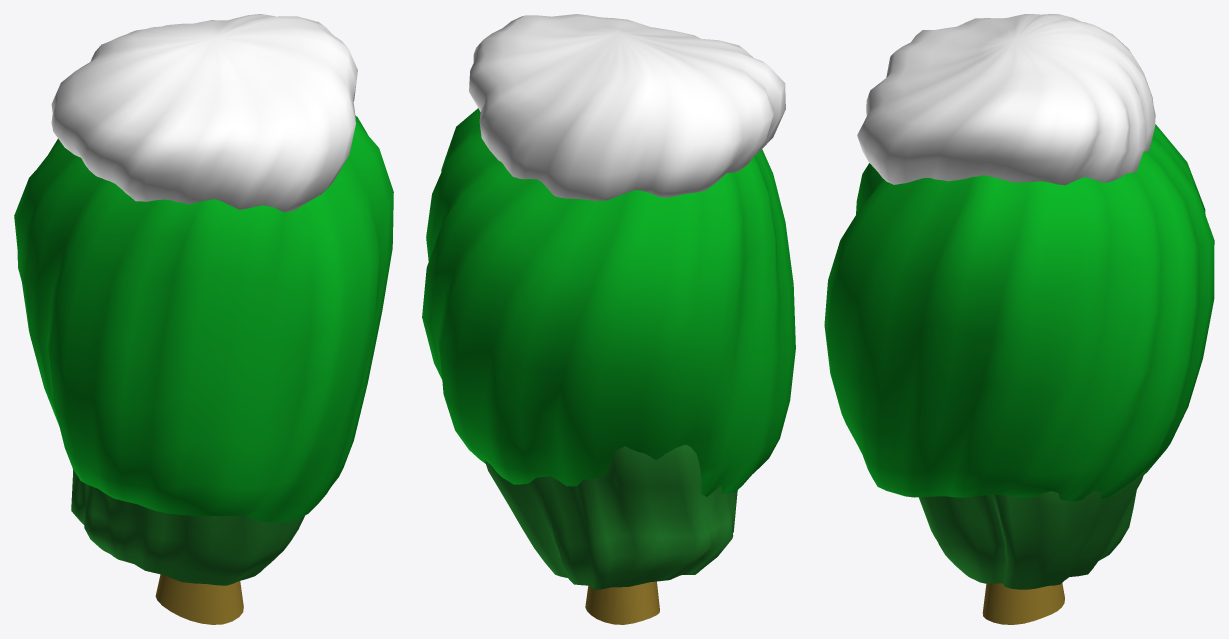
The model's file is HEDGE-TALL.glb.
3 views of the same model, side by side, from view 1: azimuth 30°, elevation 25°; view 2: azimuth 150°, elevation 25°; view 3: azimuth 270°, elevation 25° (orthographic).
Visible parts, largest first — view 1: HEDGE - TALL; view 2: HEDGE - TALL; view 3: HEDGE - TALL.
Part boxes in pixels (x1,y1,x2,y2): HEDGE - TALL: (14,14,393,624); HEDGE - TALL: (422,14,795,624); HEDGE - TALL: (824,14,1214,624).
Bounding box in the file's own units: 1.97 × 3.26 × 2.
